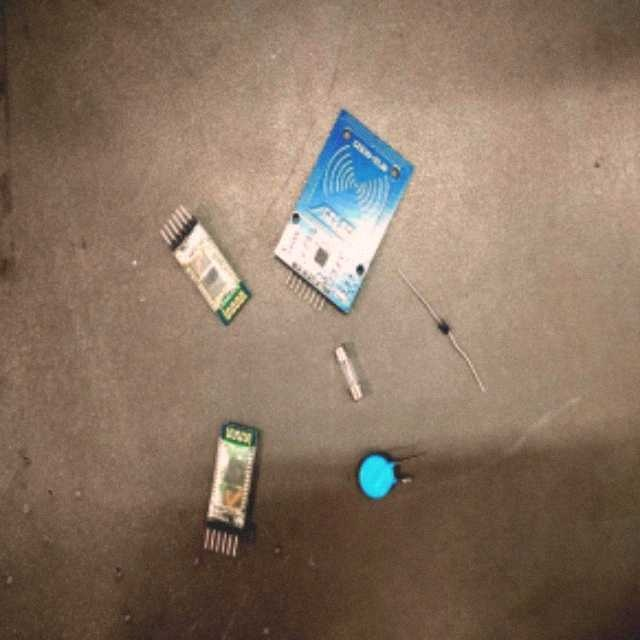capacitor: (359, 455, 394, 498)
